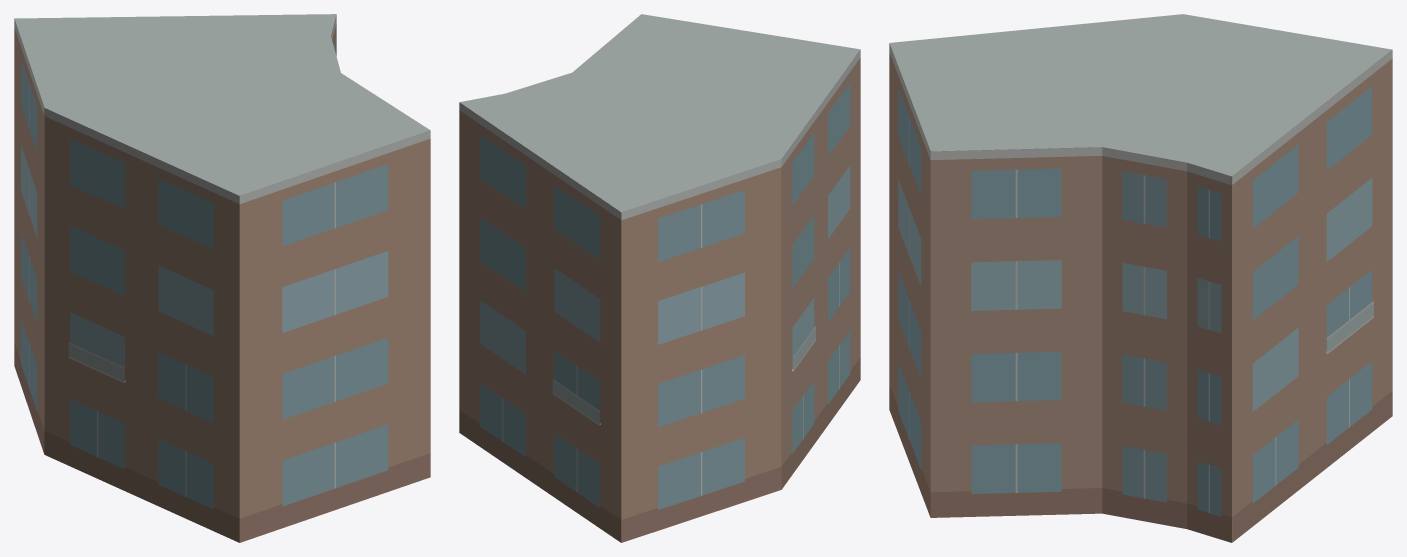
The model's file is survey-upis-32772704.glb.
The picture shows the model from 3 angles, left to right: view 1: azimuth 30°, elevation 25°; view 2: azimuth 150°, elevation 25°; view 3: azimuth 270°, elevation 25°; orthographic projection. The views are drawn at different scales.
Parts seen in each view (by area): view 1: survey-upis-32772704.tmp; view 2: survey-upis-32772704.tmp; view 3: survey-upis-32772704.tmp.
Boxes of the visible parts, bbox=[...] form: survey-upis-32772704.tmp: bbox=[14, 14, 430, 542]; survey-upis-32772704.tmp: bbox=[459, 14, 860, 542]; survey-upis-32772704.tmp: bbox=[889, 14, 1392, 542].
Bounding box in the file's own units: 9.7 × 10.2 × 12.71.
